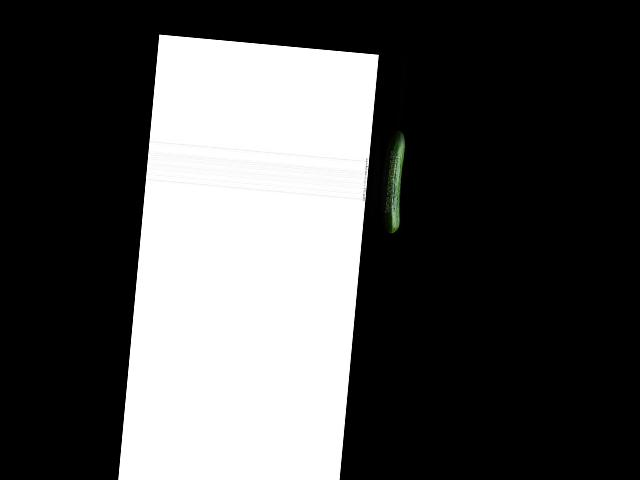cucumber: (382, 131, 407, 234)
